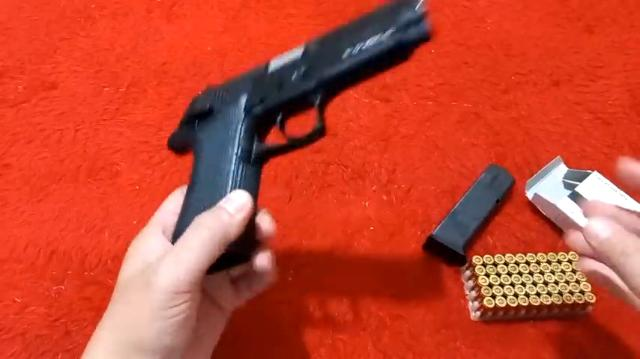pistol: (160, 0, 440, 254)
